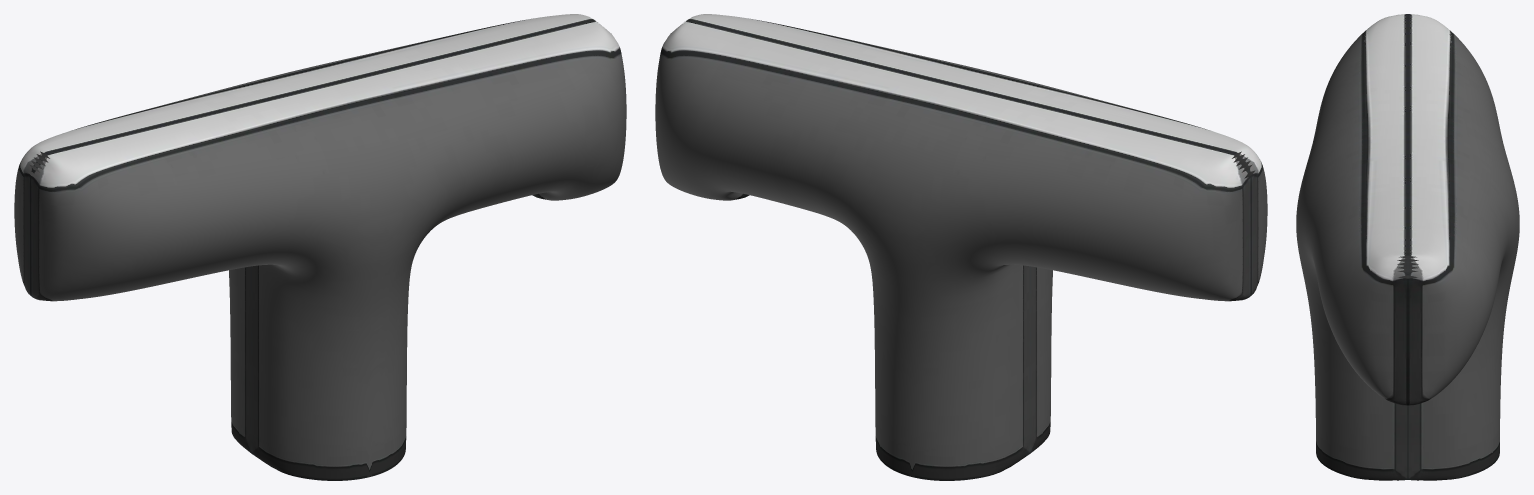
File: outrigger_bracket.glb
The picture shows the model from 3 angles, left to right: view 1: azimuth 30°, elevation 25°; view 2: azimuth 150°, elevation 25°; view 3: azimuth 270°, elevation 25°; orthographic projection. The views are drawn at different scales.
Visible parts, largest first — view 1: outrigger_bracket; view 2: outrigger_bracket; view 3: outrigger_bracket.
Part boxes in pixels (x1,y1,x2,y2): outrigger_bracket: (14, 14, 626, 480); outrigger_bracket: (655, 14, 1267, 480); outrigger_bracket: (1296, 14, 1519, 480).
Bounding box in the file's own units: 0.989 × 0.5762 × 0.3665.
1 material, 1 textured.
